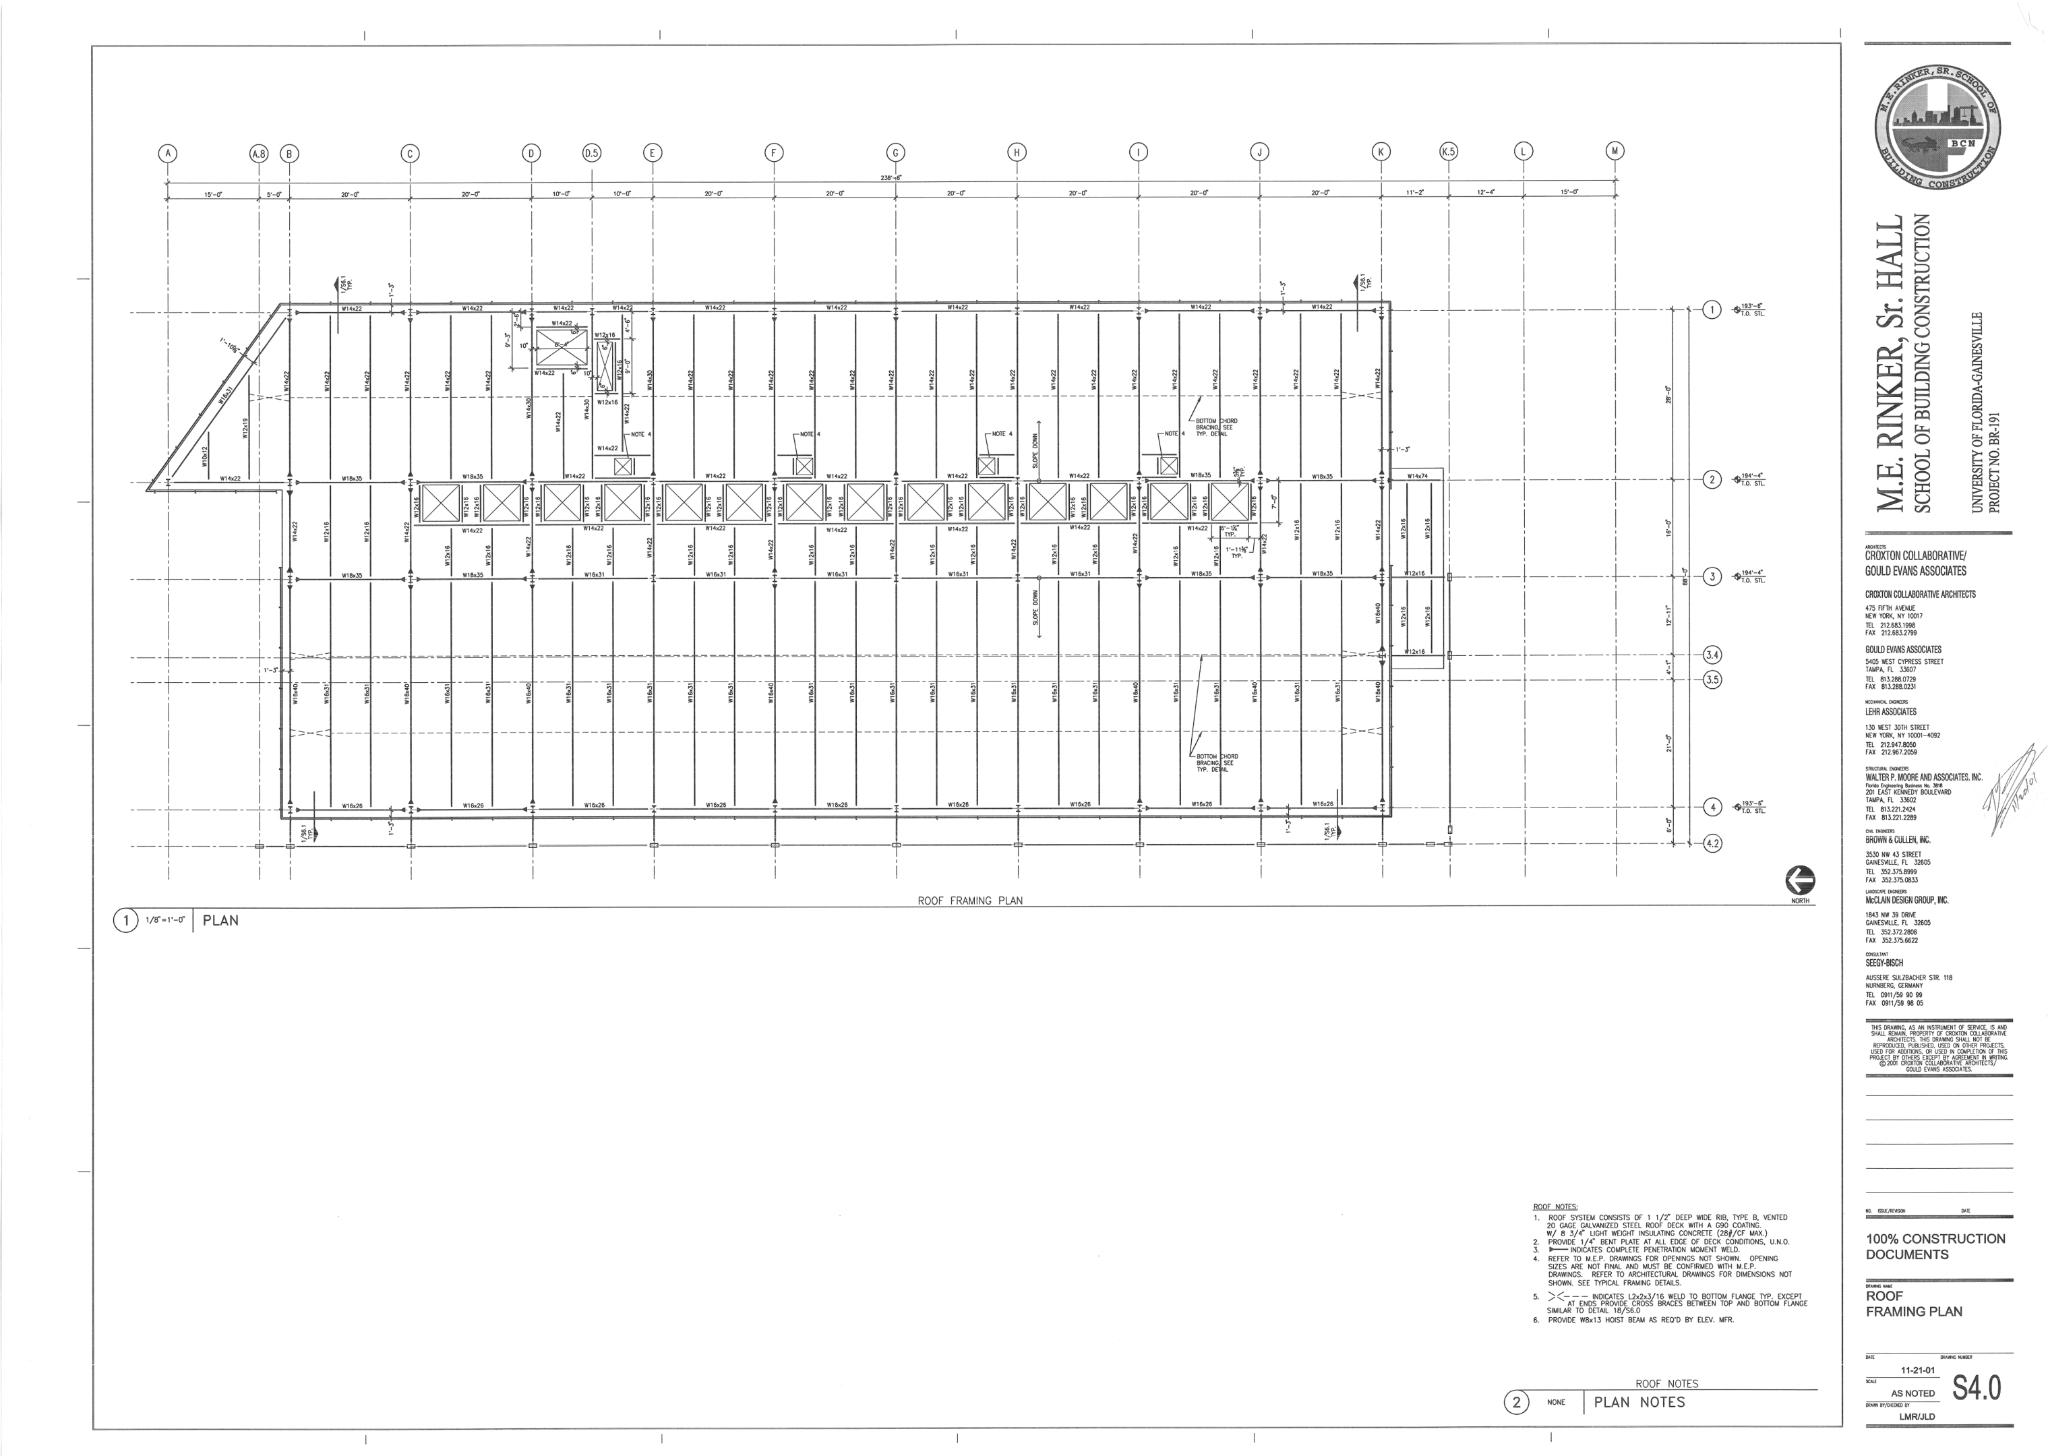elevation: (333, 273, 351, 336), (300, 789, 320, 845), (1324, 787, 1342, 843), (1353, 272, 1366, 332)
